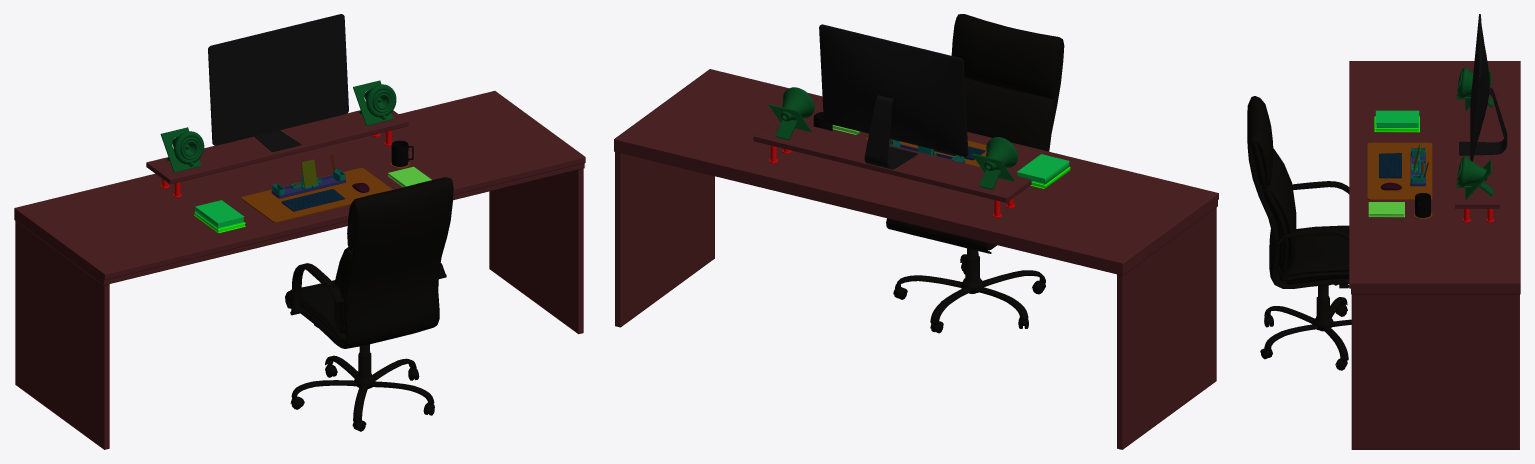
The model's file is PC Desk.fbx.
3 views of the same model, side by side, from view 1: azimuth 30°, elevation 25°; view 2: azimuth 150°, elevation 25°; view 3: azimuth 270°, elevation 25° (orthographic). The views are drawn at different scales.
Parts seen in each view (by area): view 1: Table, Chair, Display, Table_Top, Table_Desk, Speaker_01, Speaker_02, Book_03, Keyboard; view 2: Table, Chair, Display, Table_Top, Speaker_01, Speaker_02, Book_03; view 3: Table, Chair, Table_Top, Table_Desk, Display, Speaker_01, Book_03, Keyboard, Speaker_02, Book_01, Cup.
Part boxes in pixels (x1,y1,x2,y2): Table: (14,91,585,449); Chair: (285,177,453,431); Display: (208,14,348,151); Table_Top: (146,110,408,184); Table_Desk: (241,168,392,222); Speaker_01: (353,80,396,125); Speaker_02: (160,127,204,172); Book_03: (195,200,244,228); Keyboard: (281,189,344,211); Table: (614,69,1218,449); Chair: (886,14,1064,333); Display: (819,24,968,169); Table_Top: (753,119,1031,202); Speaker_01: (768,87,814,140); Speaker_02: (972,137,1017,189); Book_03: (1017,154,1069,184); Table: (1349,61,1520,449); Chair: (1247,96,1351,370); Table_Top: (1455,94,1499,208); Table_Desk: (1367,142,1432,200); Display: (1459,14,1507,161); Speaker_01: (1456,156,1493,199); Book_03: (1375,110,1419,128); Keyboard: (1379,153,1401,178); Speaker_02: (1456,67,1493,110); Book_01: (1368,202,1404,217); Cup: (1415,193,1430,217).
Bounding box in the file's own units: 231 × 143 × 120.
